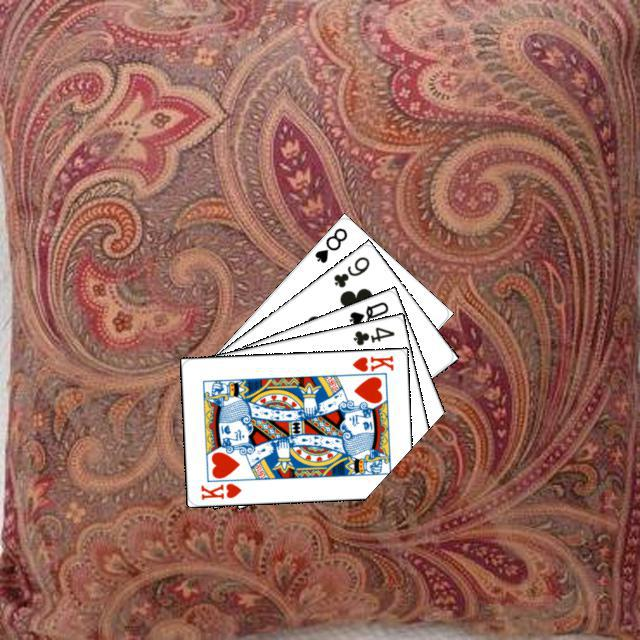4c: (348, 322, 396, 347)
8s: (310, 223, 349, 265)
9c: (328, 251, 371, 289)
Kh: (344, 351, 395, 378), (196, 478, 243, 501)
Qs: (344, 297, 390, 327)
